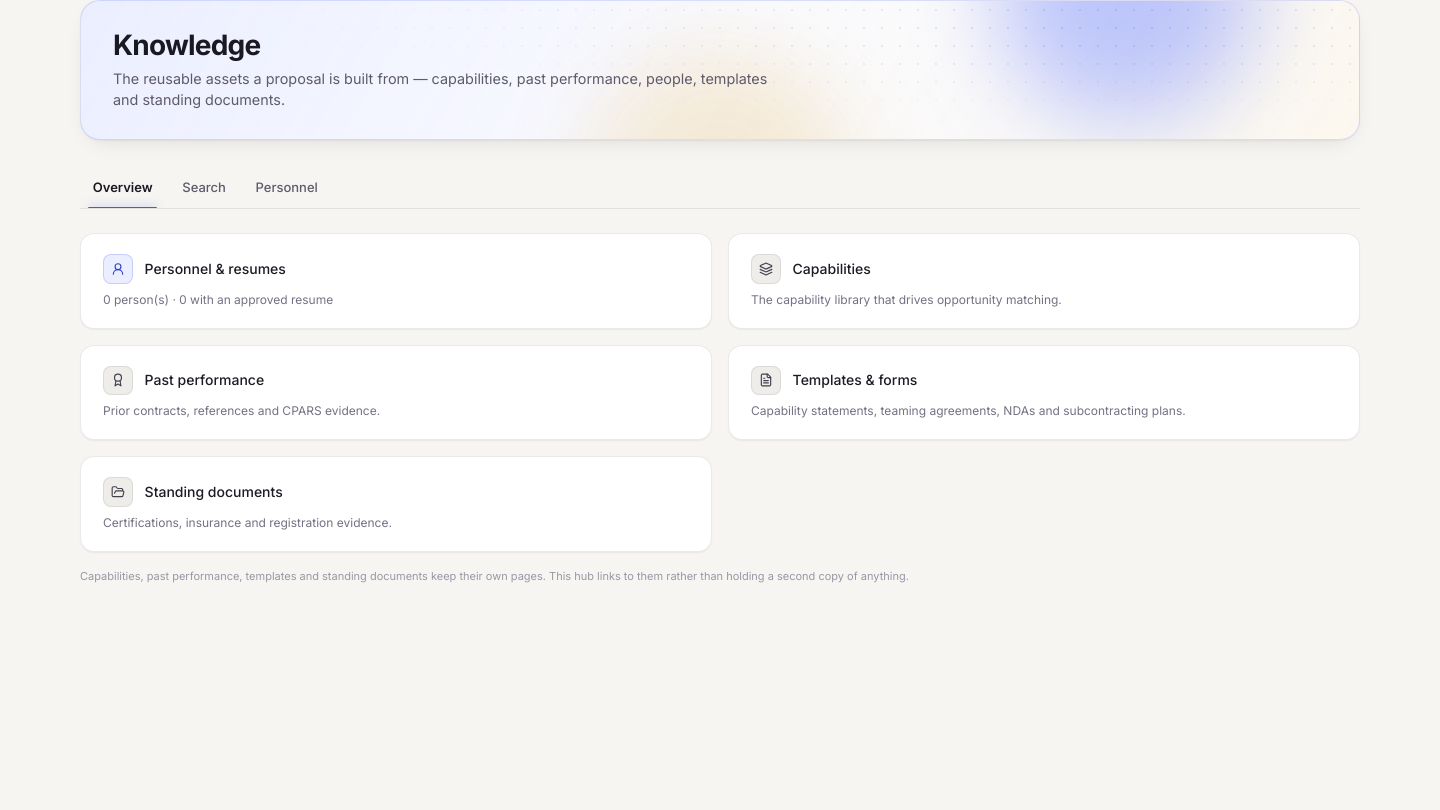
Test: Knowledge hub › shows an honest empty state for personnel
The width and height of the screenshot is (1440, 810).
Click the button "Personnel" at (287, 188), box [243,168,331,208]
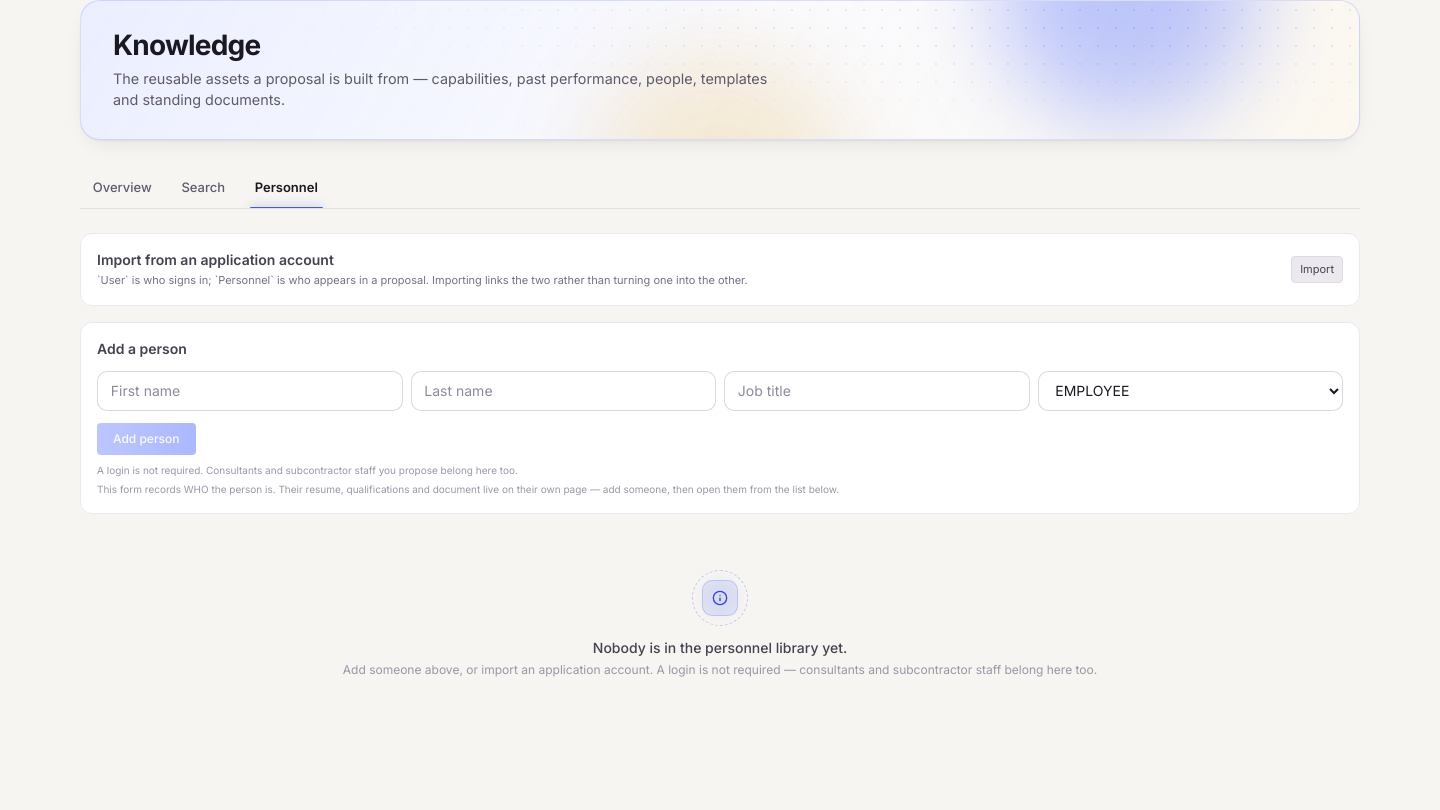
Expected: the text "Nobody is in the personnel library yet." is shown, [593,639,847,656]
Expected: the text "A login is not required" is shown, [97,464,518,476]
